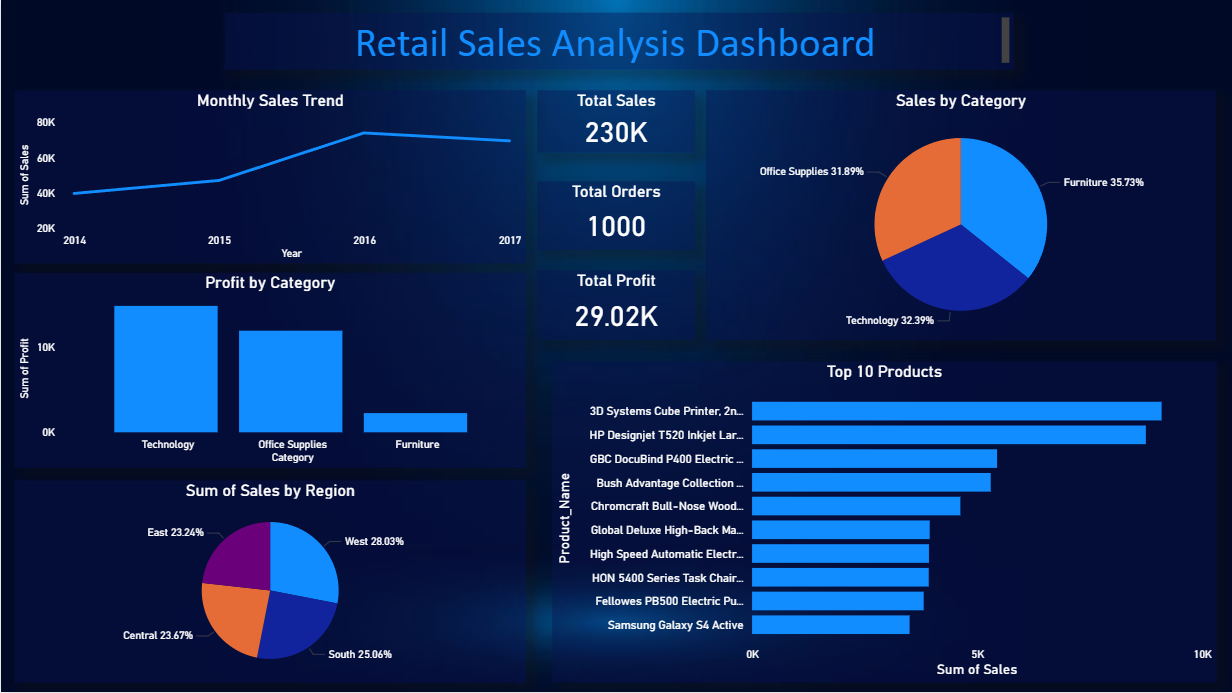

Layout of this report page (visuals, bound fields, positions):
{"tool":"powerbi","page":{"name":"Page 1","canvas":[1280,720],"ordinal":0},"visuals":[{"type":"card","title":"Total Sales","fields":{"Values":["Sum(superstore.Sales)"]},"box":[557.3,94.5,164.2,64.7],"z":0},{"type":"card","title":"Total Profit","fields":{"Values":["Sum(superstore.Profit)"]},"box":[557.3,282.4,164.2,72.1],"z":1000},{"type":"card","title":"Total Orders","fields":{"Values":["CountNonNull(superstore.Order_ID)"]},"box":[557.3,189.1,164.2,70.9],"z":2000},{"type":"lineChart","title":"Monthly Sales Trend","fields":{"Category":["superstore.Order_Date.Variation.Date Hierarchy.Month"],"Y":["Sum(superstore.Sales)"]},"box":[13.7,94.5,531.2,180.4],"z":3000},{"type":"pieChart","title":"Sales by Category","fields":{"Y":["Sum(superstore.Sales)"],"Category":["superstore.Category"]},"box":[732.7,94.5,529.9,260],"z":4000},{"type":"clusteredColumnChart","title":"Profit by Category","fields":{"Category":["superstore.Category"],"Y":["Sum(superstore.Profit)"]},"box":[13.7,284.9,531.2,202.8],"z":5000},{"type":"clusteredBarChart","title":"Top 10 Products","fields":{"Category":["superstore.Product_Name"],"Y":["Sum(superstore.Sales)"]},"box":[572.2,376.9,690.4,333.4],"z":6000},{"type":"pieChart","fields":{"Category":["superstore.Region"],"Y":["Sum(superstore.Sales)"]},"box":[13.7,500.1,531.2,210.2],"z":7000},{"type":"textbox","box":[232.9,13.9,820.3,59.5],"z":8000}]}

Visuals, with their boxes in screenshot pixels (x1, y1, x2, y2), scaled from the page's 1280x720 canvas onto the 1232x693 screenshot:
"Total Sales" card: Rect(536, 91, 694, 153)
"Total Profit" card: Rect(536, 272, 694, 341)
"Total Orders" card: Rect(536, 182, 694, 250)
"Monthly Sales Trend" lineChart: Rect(13, 91, 524, 265)
"Sales by Category" pieChart: Rect(705, 91, 1215, 341)
"Profit by Category" clusteredColumnChart: Rect(13, 274, 524, 469)
"Top 10 Products" clusteredBarChart: Rect(551, 363, 1215, 684)
pieChart - superstore.Region x Sum(superstore.Sales): Rect(13, 481, 524, 684)
textbox: Rect(224, 13, 1014, 71)
